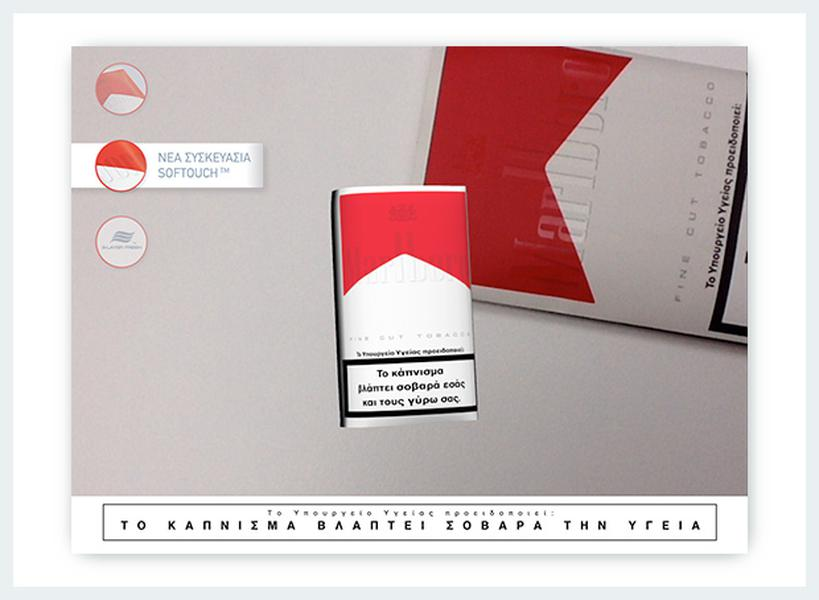marlboro_red: (335, 187, 472, 421)
